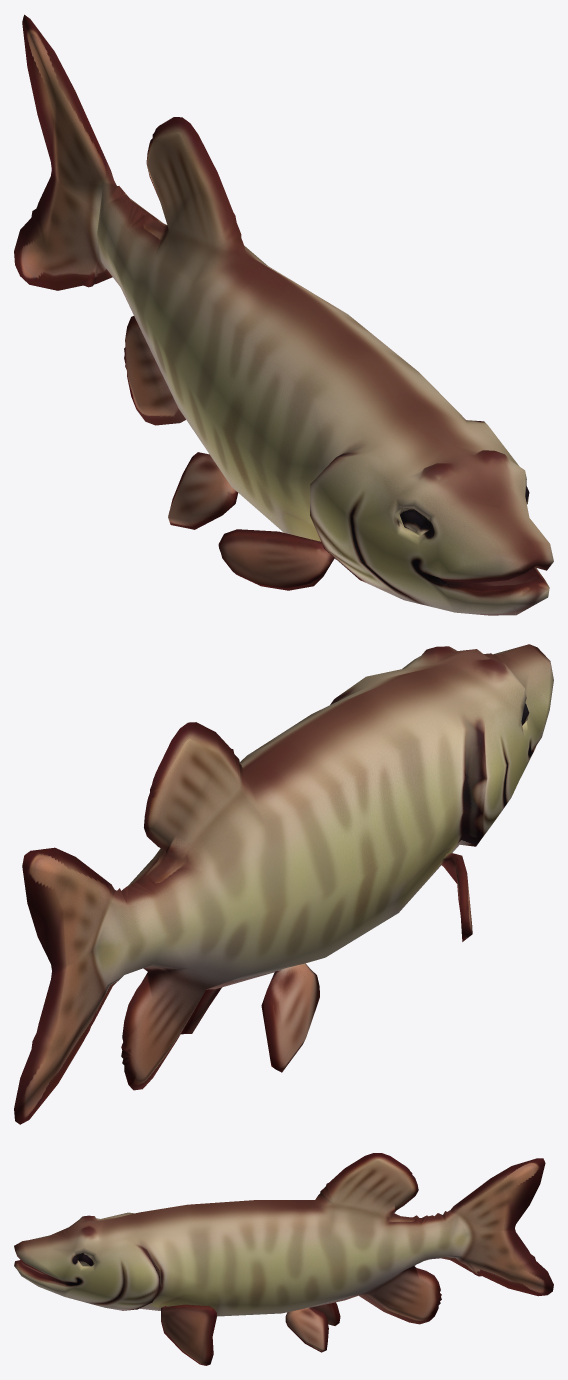
File: Muskellunge_01.fbx
3 renders of one model, top to bottom at view 1: azimuth 30°, elevation 25°; view 2: azimuth 150°, elevation 25°; view 3: azimuth 270°, elevation 25°, orthographic. The views are drawn at different scales.
Visible parts, largest first — view 1: Muskellunge_01; view 2: Muskellunge_01; view 3: Muskellunge_01.
Boxes of the visible parts, x1=… form: Muskellunge_01: x1=14, y1=14, x2=553, y2=615; Muskellunge_01: x1=14, y1=644, x2=553, y2=1124; Muskellunge_01: x1=14, y1=1153, x2=553, y2=1365.
Size of the model in its own units: 27.54 by 38.09 by 99.8.
